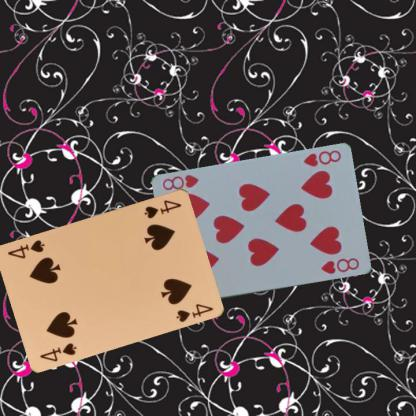4s: (142, 197, 183, 220), (38, 340, 78, 363)
8h: (300, 147, 342, 168)
